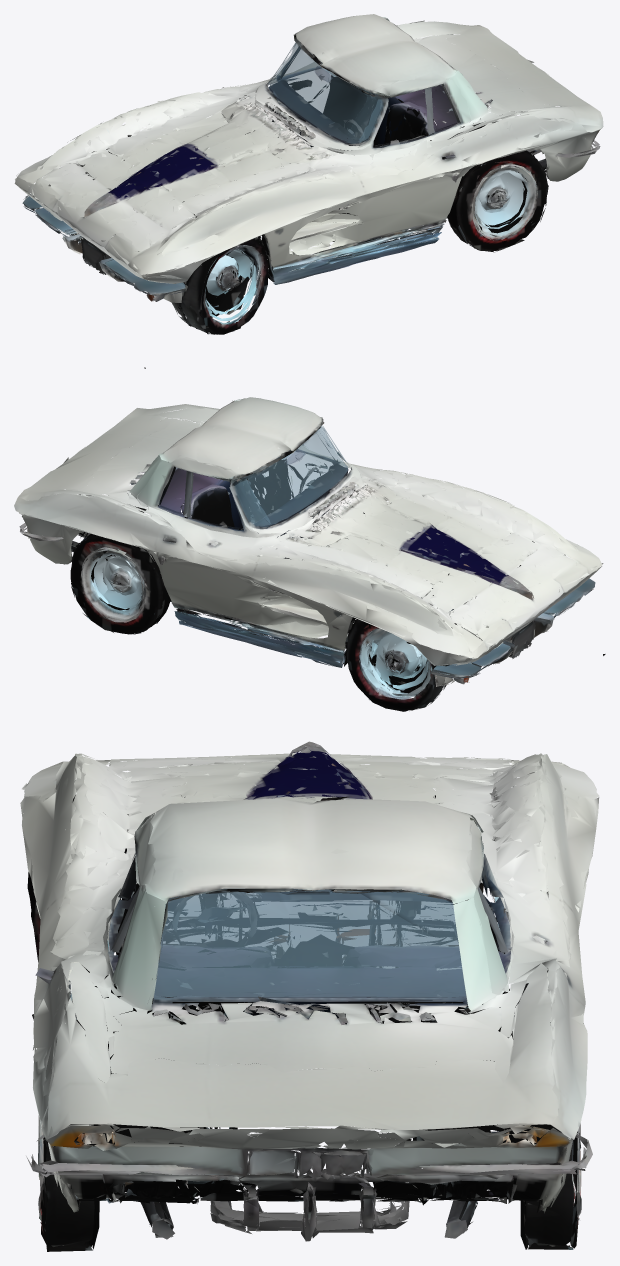
File: corvette_1784773320_43469120.glb
3 renders of one model, top to bottom at view 1: azimuth 30°, elevation 25°; view 2: azimuth 150°, elevation 25°; view 3: azimuth 270°, elevation 25°, orthographic. The views are drawn at different scales.
Parts seen in each view (by area): view 1: Hero; view 2: Hero; view 3: Hero.
Part boxes in pixels (bbox=[...]): Hero: bbox=[14, 14, 603, 368]; Hero: bbox=[14, 397, 605, 711]; Hero: bbox=[20, 741, 599, 1251].
Bounding box in the file's own units: 1 × 0.4248 × 0.5419.
Materials: 1 (1 with a texture image).
